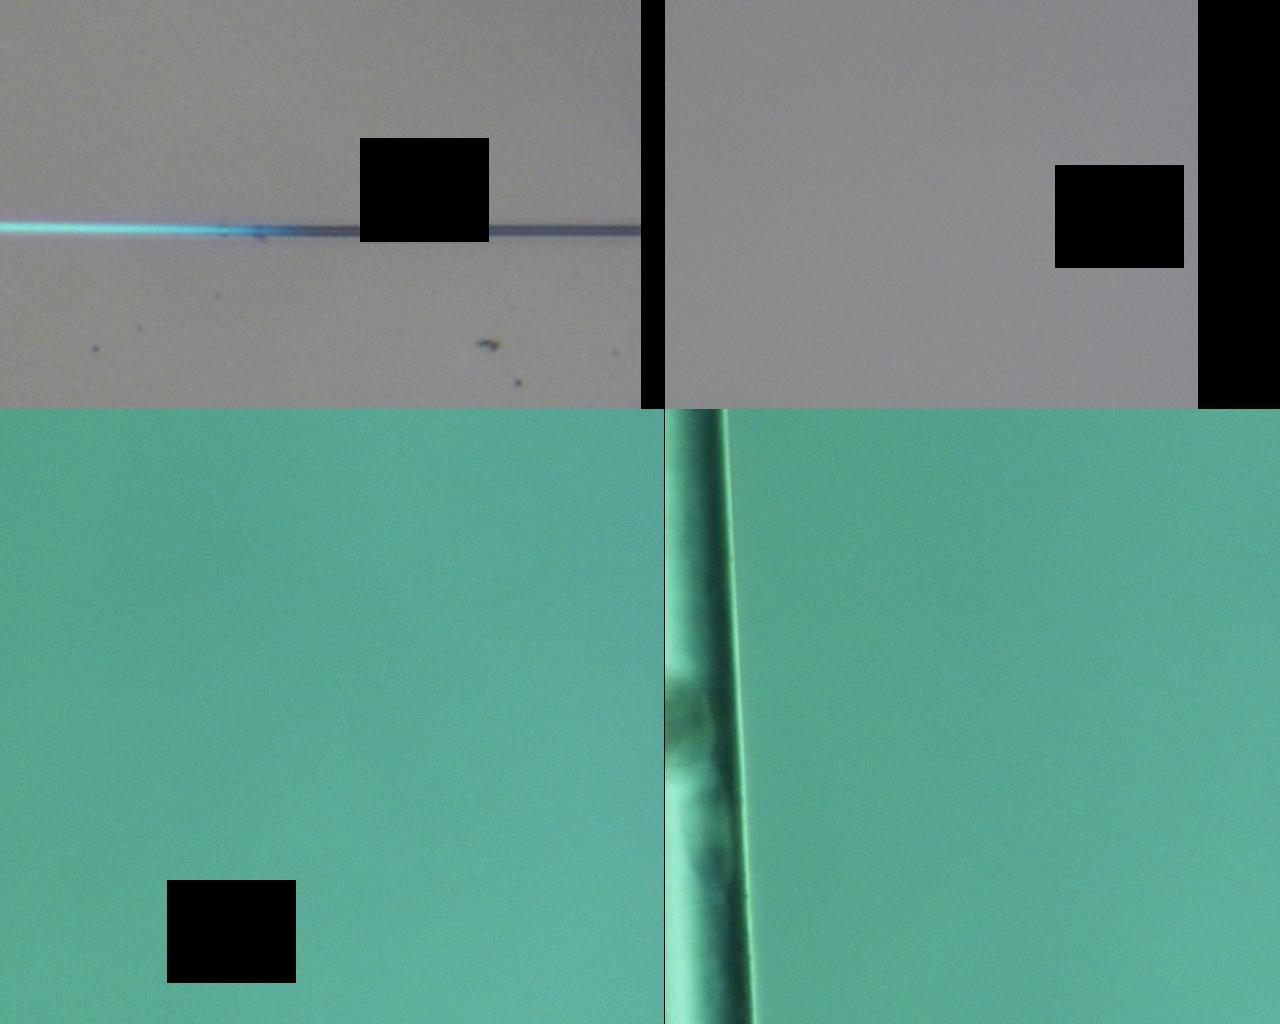fiber: (665, 409, 759, 1024), (0, 222, 641, 237)
